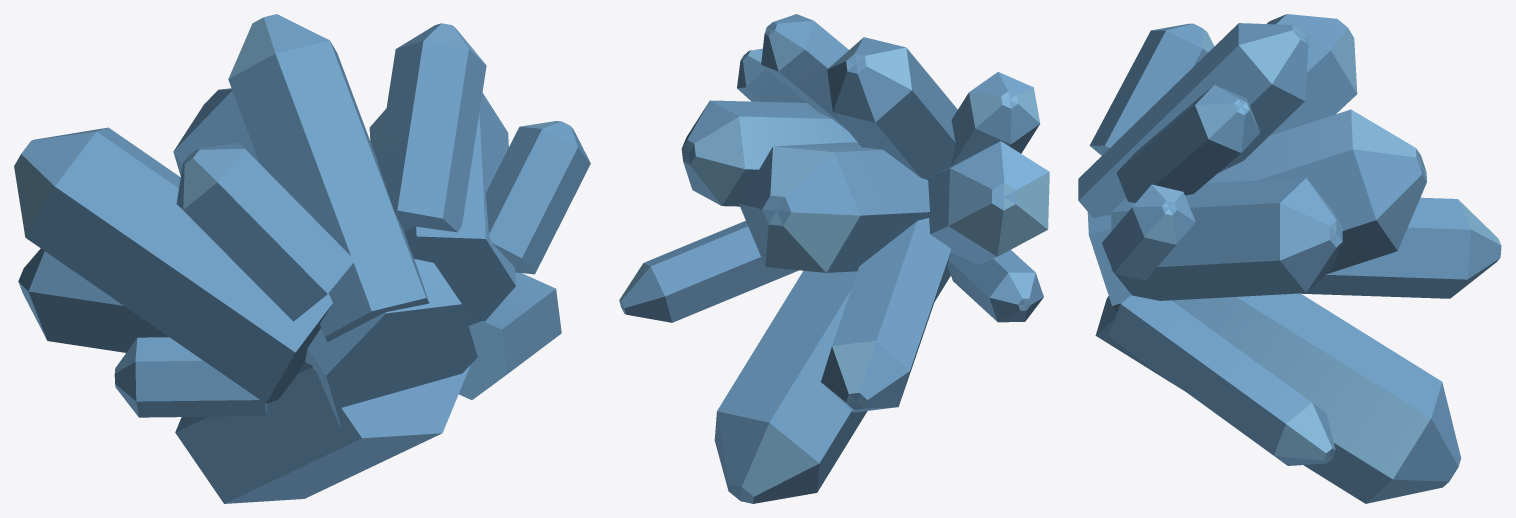
Rendered from IceCrystalCluster.003.glb.
The picture shows the model from 3 angles, left to right: view 1: azimuth 30°, elevation 25°; view 2: azimuth 150°, elevation 25°; view 3: azimuth 270°, elevation 25°; orthographic projection. The views are drawn at different scales.
Parts seen in each view (by area): view 1: IceCrystalCluster.003; view 2: IceCrystalCluster.003; view 3: IceCrystalCluster.003.
Boxes of the visible parts, <box> form: IceCrystalCluster.003: <box>14,14,590,503</box>; IceCrystalCluster.003: <box>619,14,1049,503</box>; IceCrystalCluster.003: <box>1078,14,1501,503</box>.
Bounding box in the file's own units: 987 × 947 × 817.
